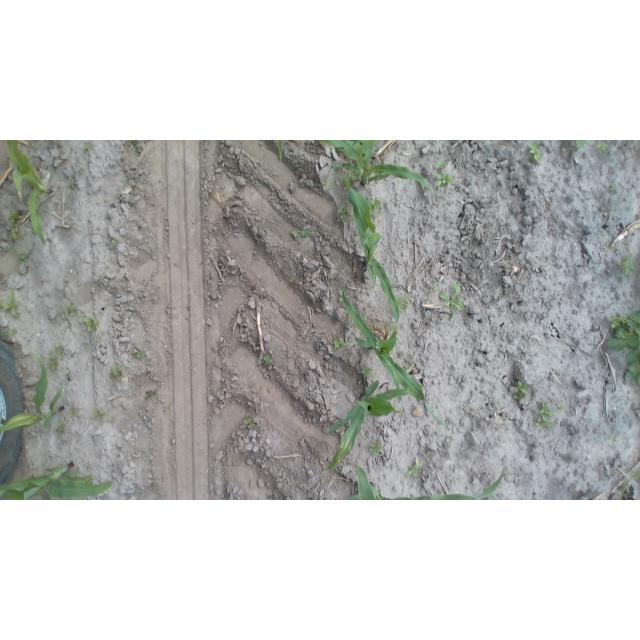Maize: (341, 285, 449, 428), (322, 174, 401, 334), (277, 141, 436, 206), (327, 381, 409, 472), (339, 465, 506, 500), (3, 140, 53, 250), (0, 353, 64, 432), (0, 464, 114, 501), (620, 472, 640, 500)
Weeds: (607, 310, 640, 350), (440, 283, 465, 320), (623, 347, 640, 384), (0, 290, 20, 318), (536, 402, 554, 430), (618, 253, 634, 279), (512, 381, 530, 401), (435, 173, 455, 187), (529, 143, 542, 164), (396, 295, 411, 313), (8, 209, 23, 226), (82, 317, 98, 332), (368, 440, 384, 455), (368, 198, 382, 215), (111, 364, 125, 381), (407, 462, 420, 478), (1, 328, 18, 340), (63, 303, 77, 317), (345, 171, 362, 182), (92, 408, 109, 419), (596, 141, 608, 156), (338, 205, 350, 220), (13, 227, 24, 241), (362, 366, 374, 378), (263, 355, 276, 365), (47, 358, 57, 370), (55, 422, 65, 434), (132, 350, 144, 360), (335, 339, 346, 349), (434, 160, 446, 169), (70, 467, 79, 478), (245, 418, 256, 427), (557, 402, 566, 412), (145, 392, 155, 401), (126, 141, 136, 150), (575, 140, 586, 148), (302, 230, 311, 239), (603, 243, 613, 251), (82, 142, 91, 150), (16, 255, 28, 261), (429, 285, 437, 294), (135, 146, 143, 155), (111, 238, 119, 246), (609, 185, 617, 193), (337, 147, 345, 155), (56, 352, 65, 359), (69, 409, 76, 418), (488, 493, 497, 500), (611, 437, 618, 446), (290, 231, 298, 238), (92, 333, 98, 341), (87, 478, 93, 486), (78, 167, 84, 174), (65, 321, 71, 327), (625, 195, 631, 201), (10, 249, 15, 256), (55, 344, 62, 349), (48, 350, 54, 355), (521, 338, 526, 344), (71, 183, 76, 188), (290, 277, 294, 282)
